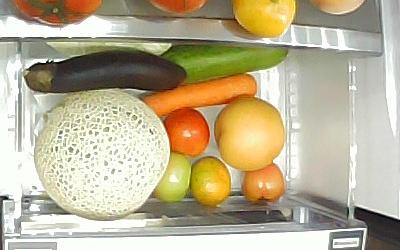carrot: (139, 72, 258, 118)
eggplant: (24, 49, 187, 93)
melon: (34, 88, 170, 221)
pear: (214, 96, 286, 172)
prune: (163, 108, 210, 156)
tangerine: (190, 155, 231, 207)
tomato: (154, 153, 192, 202), (242, 163, 286, 205)
zucchini: (160, 45, 290, 84)
